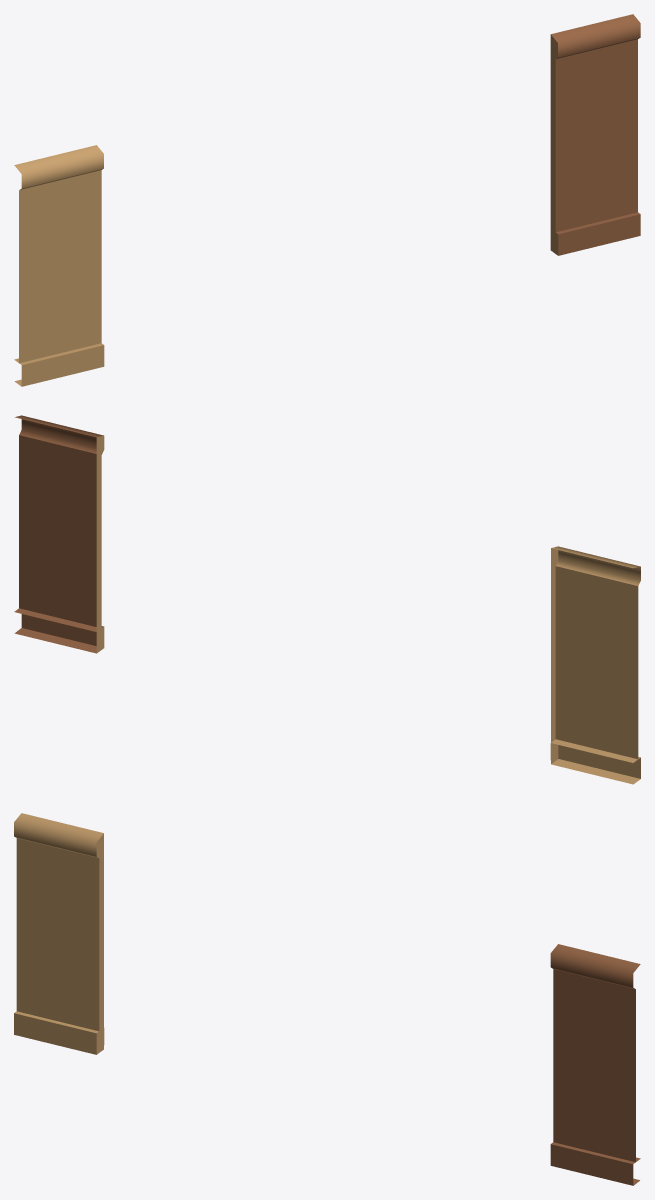
The model's file is DBK_Molding_Bottom_DoorDouble.fbx.
The picture shows the model from 3 angles, top to bottom: view 1: azimuth 30°, elevation 25°; view 2: azimuth 150°, elevation 25°; view 3: azimuth 330°, elevation 25°; orthographic projection.
Parts seen in each view (by area): view 1: DBK_Molding_Bottom_DoorDouble; view 2: DBK_Molding_Bottom_DoorDouble; view 3: DBK_Molding_Bottom_DoorDouble.
Boxes of the visible parts, x1,y1,x2,y2 form: DBK_Molding_Bottom_DoorDouble: [14, 14, 640, 386]; DBK_Molding_Bottom_DoorDouble: [14, 415, 640, 784]; DBK_Molding_Bottom_DoorDouble: [14, 813, 640, 1185].
Size of the model in its own units: 300 by 100 by 6.52.
